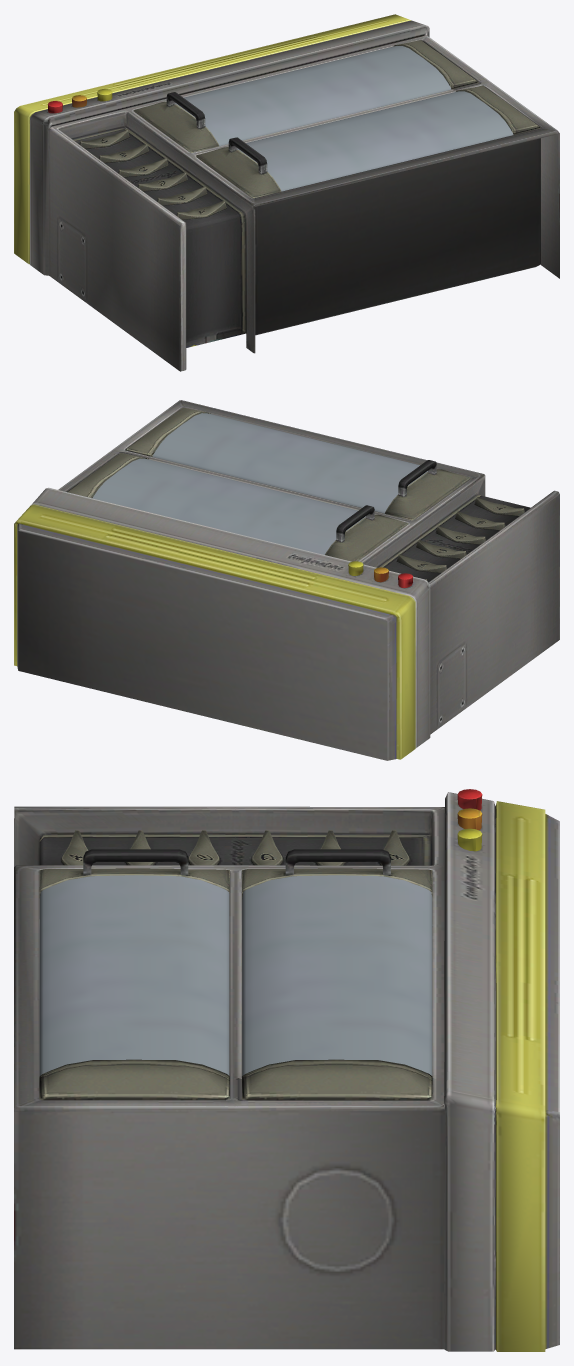
Rendered from nt_2020_cup_warmer_yellow_LOD0.obj.
3 renders of one model, top to bottom at view 1: azimuth 30°, elevation 25°; view 2: azimuth 150°, elevation 25°; view 3: azimuth 270°, elevation 25°, orthographic. The views are drawn at different scales.
Visible parts, largest first — view 1: mtl_nt_2020_cup_warmer_yellow, glass_clear_mp_model; view 2: mtl_nt_2020_cup_warmer_yellow, glass_clear_mp_model; view 3: mtl_nt_2020_cup_warmer_yellow, glass_clear_mp_model.
Boxes of the visible parts, <box> form: mtl_nt_2020_cup_warmer_yellow: <box>14,14,559,371</box>; glass_clear_mp_model: <box>175,46,513,191</box>; mtl_nt_2020_cup_warmer_yellow: <box>14,400,559,760</box>; glass_clear_mp_model: <box>92,413,427,554</box>; mtl_nt_2020_cup_warmer_yellow: <box>14,789,559,1351</box>; glass_clear_mp_model: <box>39,875,432,1075</box>.
Bounding box in the file's own units: 73.02 × 31.17 × 54.72.
